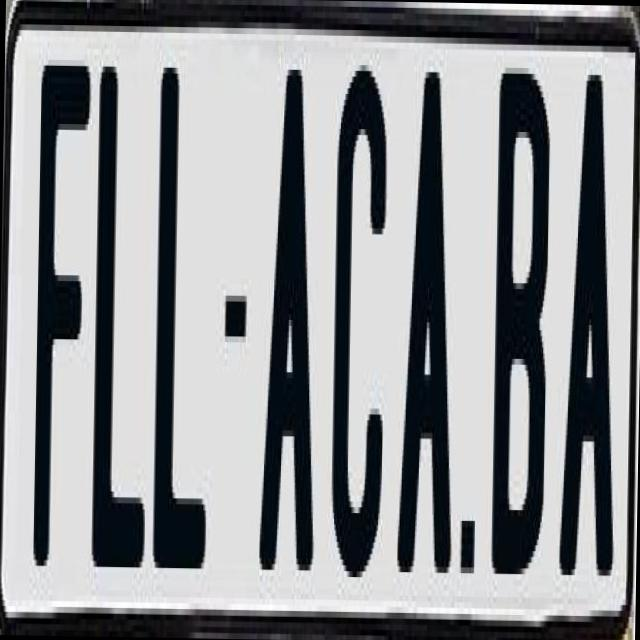A: (257, 51, 322, 582), (392, 59, 456, 590), (554, 68, 619, 581)
B: (486, 73, 548, 586)
C: (328, 58, 392, 583)
F: (31, 65, 97, 590)
L: (152, 49, 221, 568), (88, 66, 158, 573)
